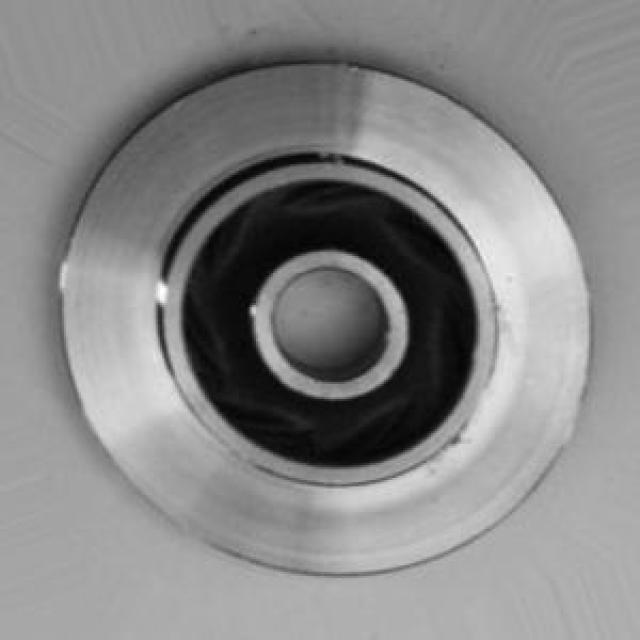Defect: (439, 432, 479, 454)
